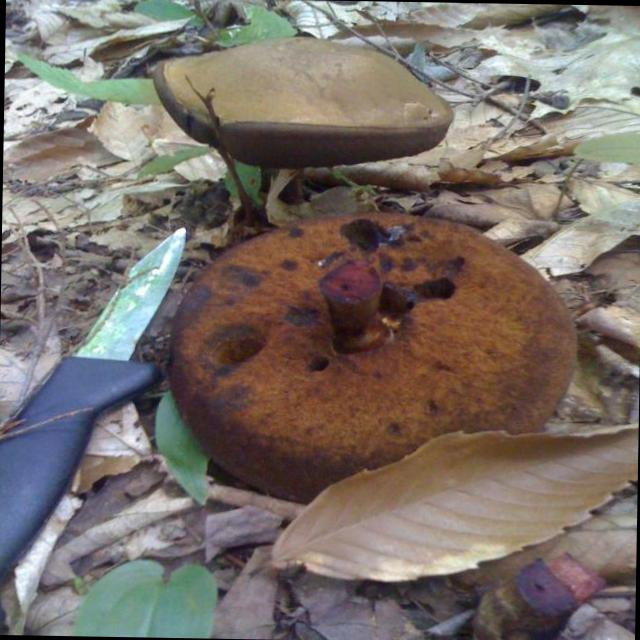Knife: (0, 228, 185, 582)
